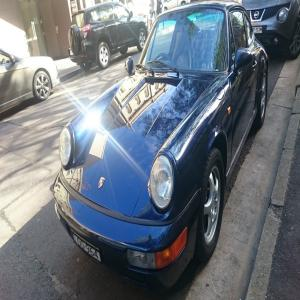Vehicle-registration-plate: (73, 231, 102, 265)
